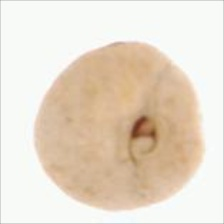L3: (128, 111, 159, 164)
L4: (34, 42, 205, 211)
